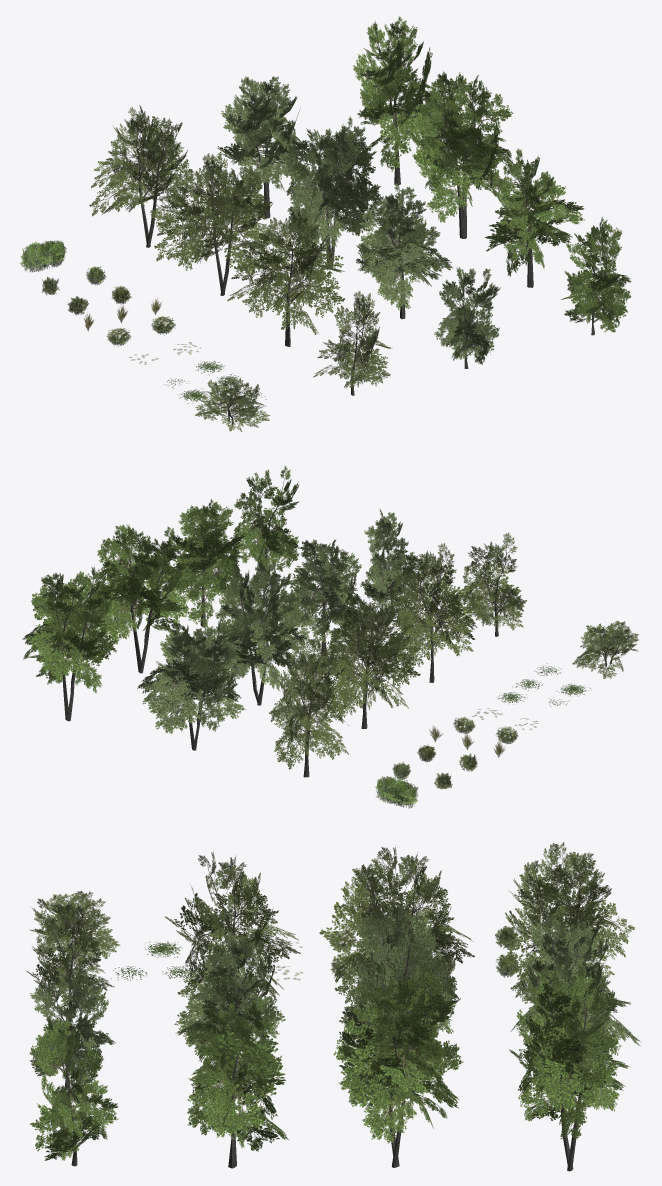
File: map_trees.glb
The picture shows the model from 3 angles, top to bottom: view 1: azimuth 30°, elevation 25°; view 2: azimuth 150°, elevation 25°; view 3: azimuth 270°, elevation 25°; orthographic projection. The views are drawn at different scales.
Parts seen in each view (by area): view 1: Object_5, Object_61, Object_34, Object_6, Object_62, Object_33, Object_7, Object_63, Object_64, Object_8, Object_37, Object_4 (+6 smaller); view 2: Object_5, Object_6, Object_61, Object_62, Object_34, Object_33, Object_9, Object_37, Object_63, Object_4, Object_7, Object_35 (+6 smaller); view 3: Object_62, Object_61, Object_5, Object_6, Object_34, Object_33, Object_65, Object_8, Object_63, Object_9, Object_7, Object_35 (+4 smaller).
Part boxes in pixels (x1,y1,x2,y2): Object_5: (44, 105, 388, 427); Object_61: (360, 23, 631, 332); Object_34: (221, 76, 500, 364); Object_6: (46, 121, 378, 416); Object_62: (353, 22, 631, 322); Object_33: (232, 83, 493, 356); Object_7: (42, 106, 390, 424); Object_63: (374, 16, 621, 325); Object_64: (357, 22, 611, 314); Object_8: (42, 111, 371, 431); Object_37: (234, 94, 476, 323); Object_4: (136, 36, 607, 424); Object_5: (272, 546, 634, 789); Object_6: (269, 537, 638, 785); Object_61: (23, 476, 299, 688); Object_62: (22, 479, 299, 680); Object_34: (137, 512, 419, 733); Object_33: (146, 527, 406, 731); Object_9: (274, 561, 628, 788); Object_37: (156, 544, 405, 718); Object_63: (46, 466, 299, 641); Object_4: (54, 482, 622, 777); Object_7: (272, 532, 629, 788); Object_35: (172, 509, 402, 673); Object_62: (34, 970, 629, 1140); Object_61: (41, 982, 619, 1160); Object_5: (29, 858, 625, 1019); Object_6: (31, 842, 634, 1003); Object_34: (29, 915, 641, 1076); Object_33: (32, 911, 621, 1081); Object_65: (49, 980, 615, 1143); Object_8: (26, 848, 580, 993); Object_63: (30, 961, 600, 1151); Object_9: (43, 859, 611, 1000); Object_7: (34, 843, 593, 1010); Object_35: (30, 904, 593, 1079).
Bounding box in the file's own units: 29.83 × 10.63 × 29.05.
37 materials, 37 textured.
